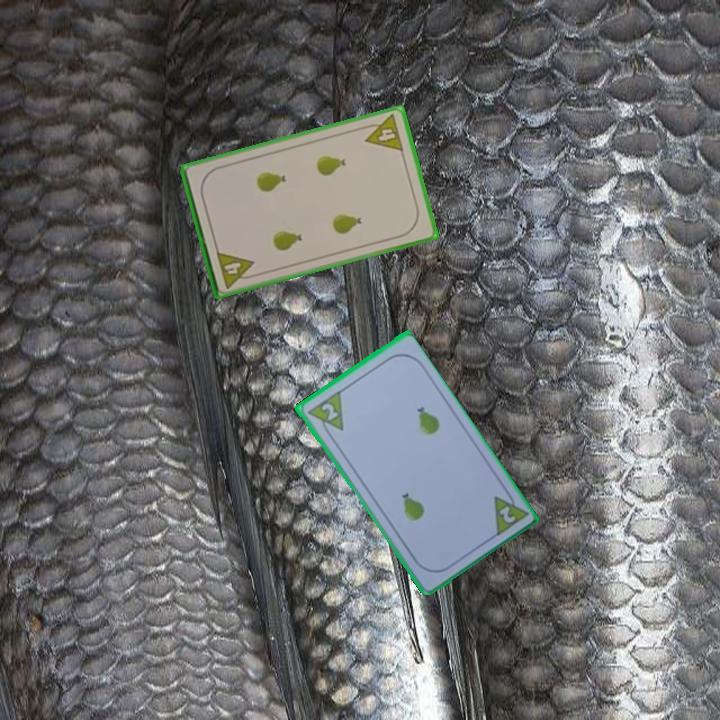2p: (489, 484, 530, 540), (303, 387, 346, 440)
4p: (358, 111, 406, 154), (213, 247, 259, 291)
